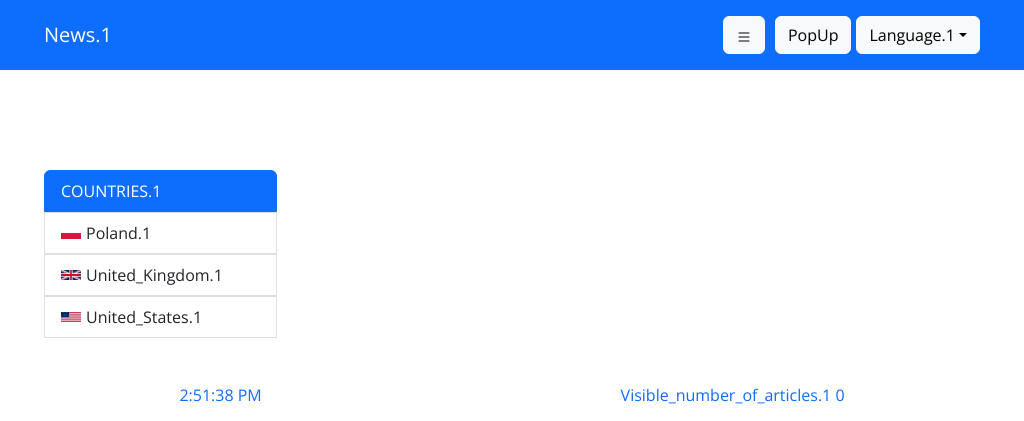
Test: Renders main page correctly › Should show PopUp list
What coordinates should you click on to do the following:
click the button "Language.1"
I would click on:
 (918, 35)
Its box is [856,16,980,54].
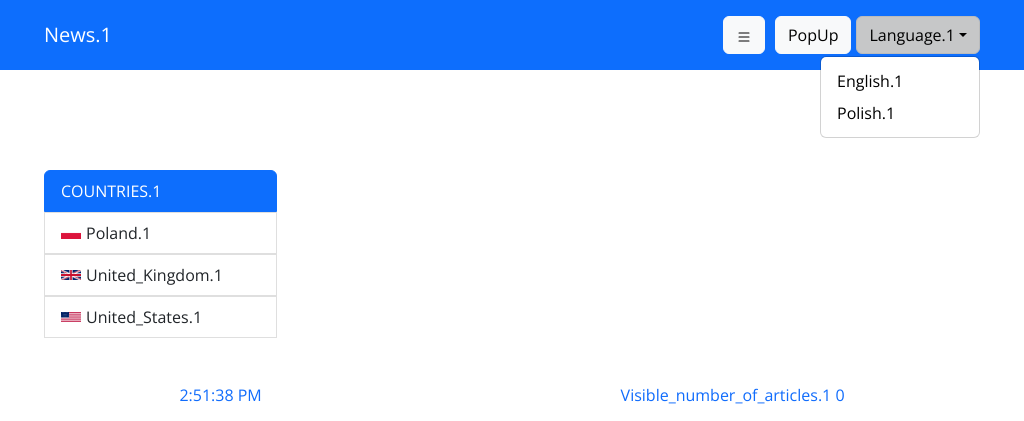
Check: the button "English.1" is shown, box [837,70,903,92]
